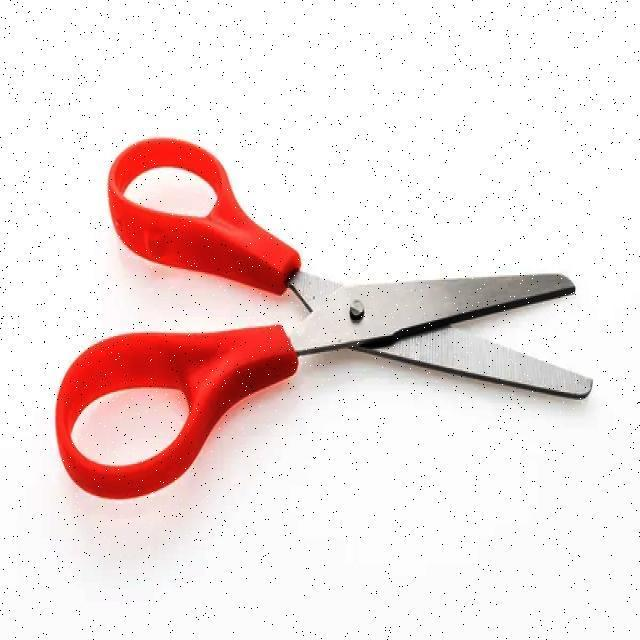scissors: (51, 131, 596, 503)
